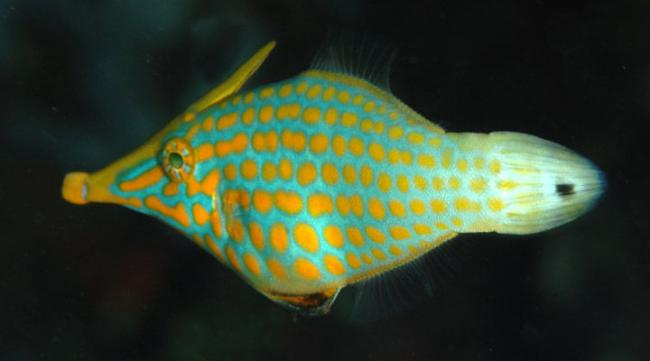fish: (61, 39, 605, 318)
